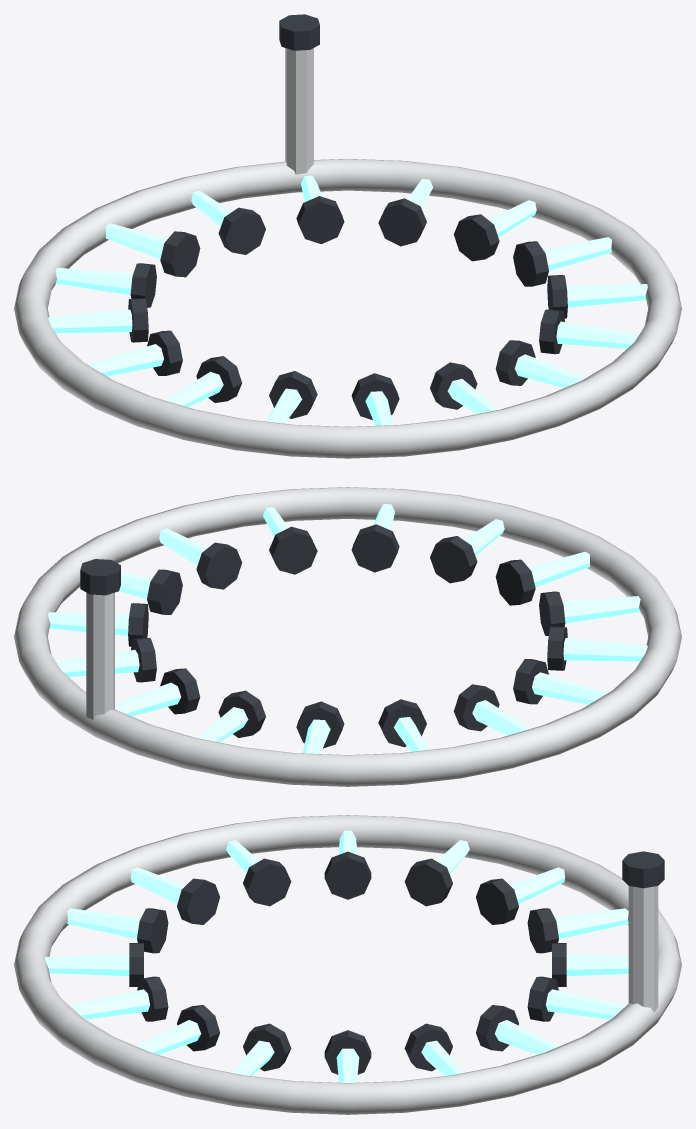
The model's file is fuelmanifold_space.glb.
3 renders of one model, top to bottom at view 1: azimuth 30°, elevation 25°; view 2: azimuth 150°, elevation 25°; view 3: azimuth 270°, elevation 25°, orthographic.
Visible parts, largest first — view 1: fuelmanifold_space; view 2: fuelmanifold_space; view 3: fuelmanifold_space.
Boxes of the visible parts, x1,y1,x2,y2 form: fuelmanifold_space: (14,14,681,458); fuelmanifold_space: (14,487,681,786); fuelmanifold_space: (14,815,681,1114).
Bounding box in the file's own units: 0.2528 × 0.0728 × 0.2528.
